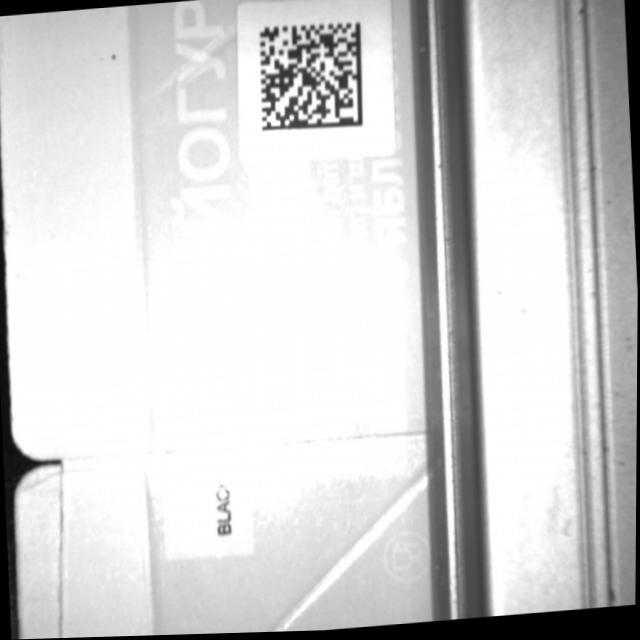datamatrix: (257, 21, 367, 137)
